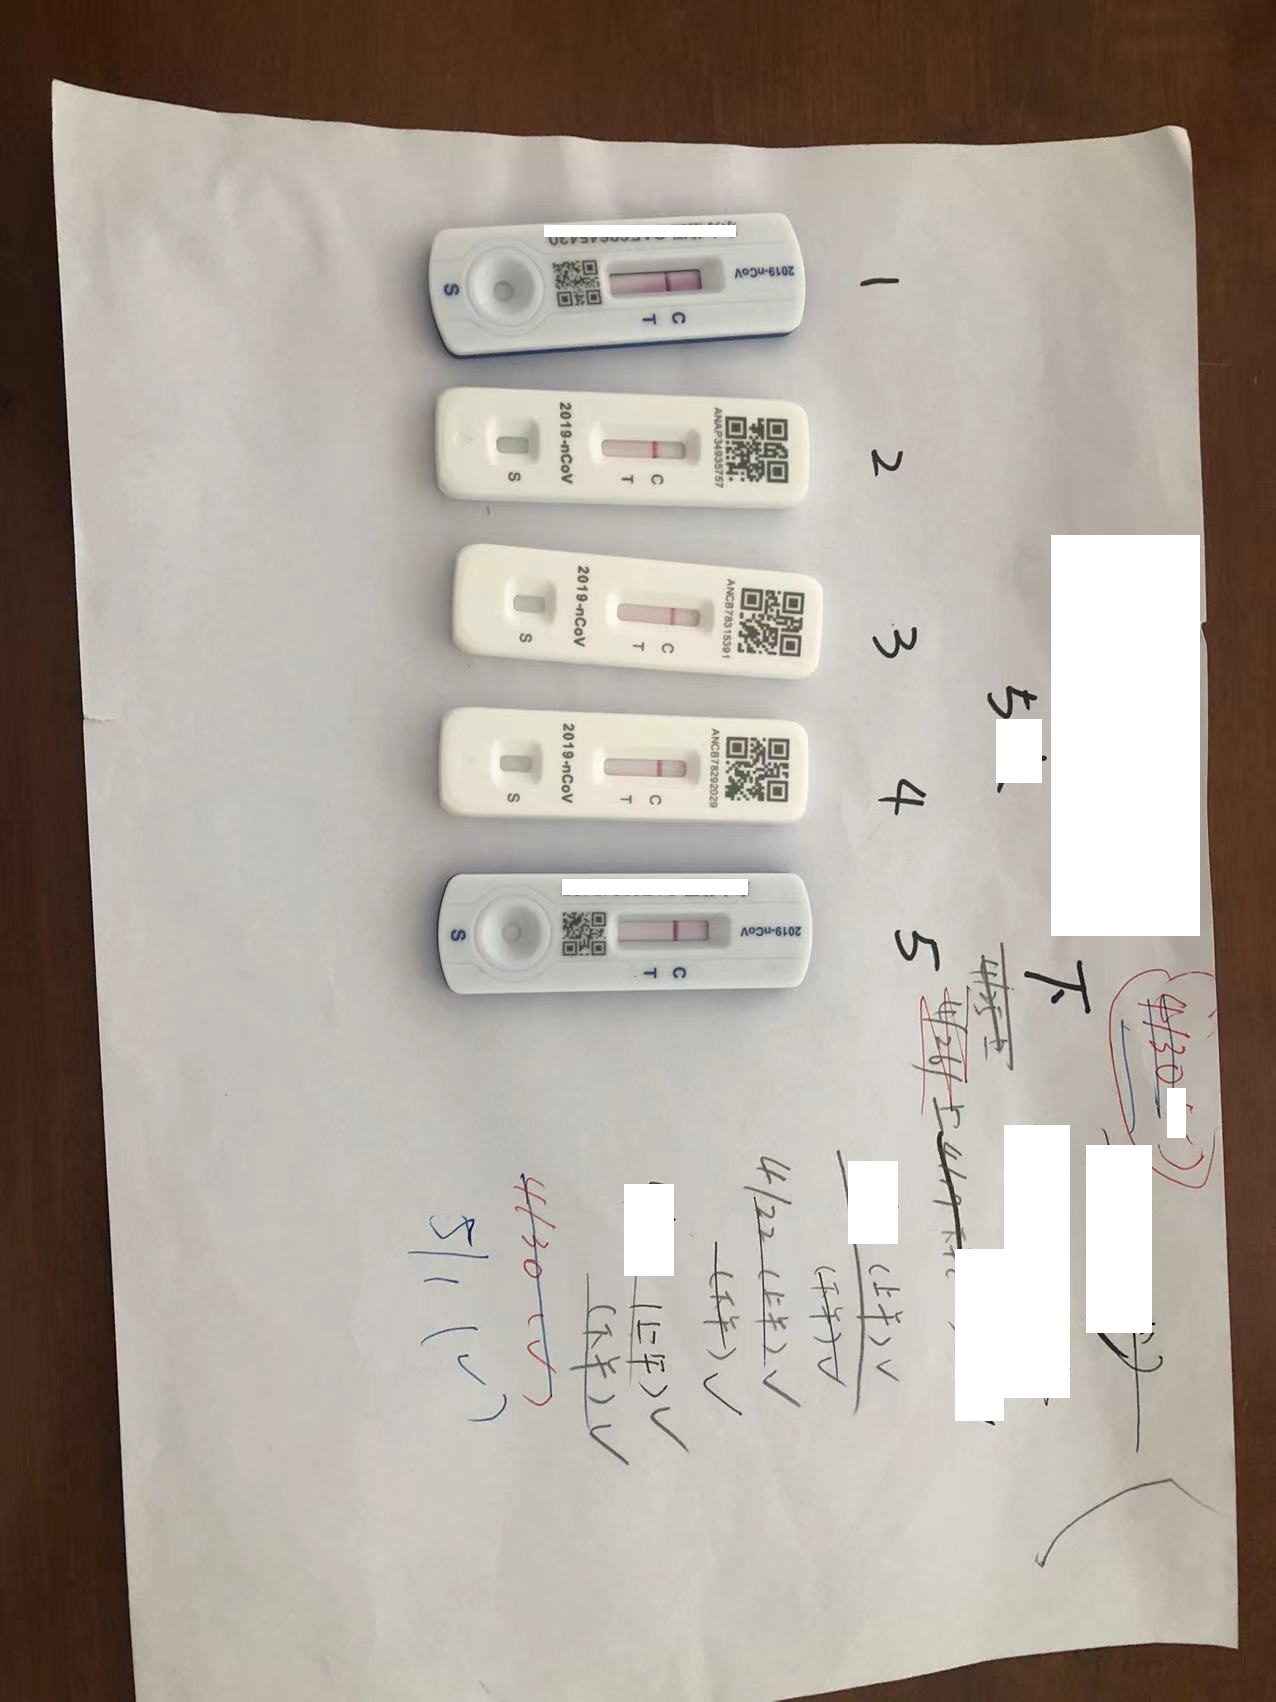negative: (595, 423, 704, 470), (604, 257, 714, 298), (617, 911, 716, 952), (591, 748, 697, 785), (613, 594, 704, 634)
